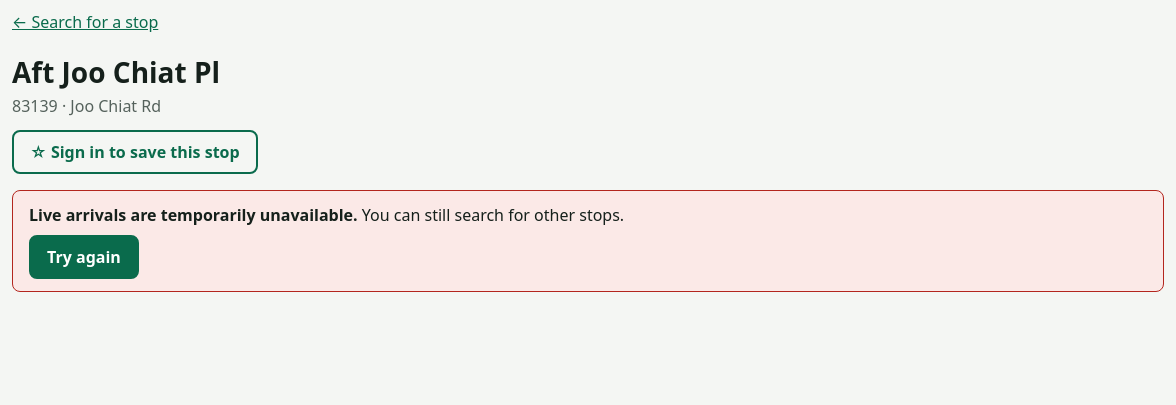
Scenario: when something goes wrong › explains when LTA is down, with a working Try again
The image size is (1176, 405).
Expected: the message shows "Live arrivals are temporarily unavailable.", [29,204,358,226]
What coordinates should you click on to do the following:
click the button "Try again"
I would click on:
 (84, 257)
Its box is [29,235,139,279].
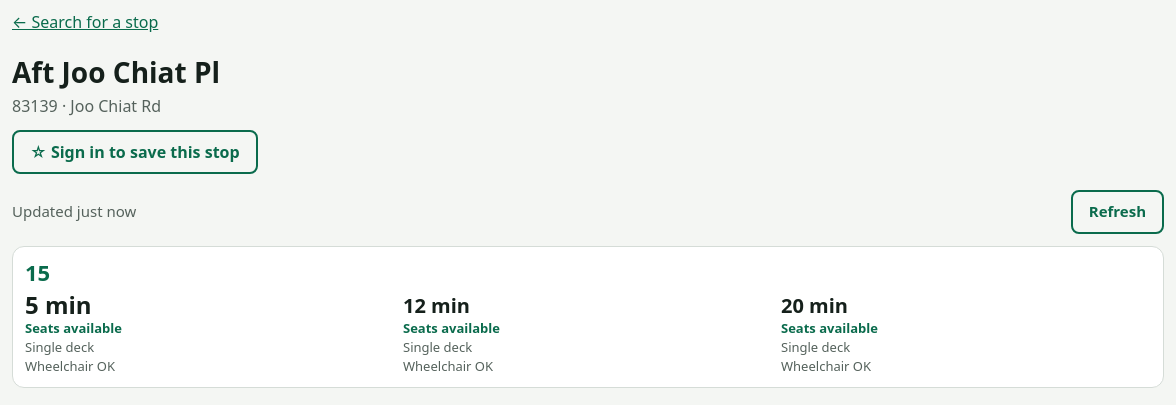
Expected: the text "5 min" is shown, [25,288,92,321]
Expected: the message is gone
